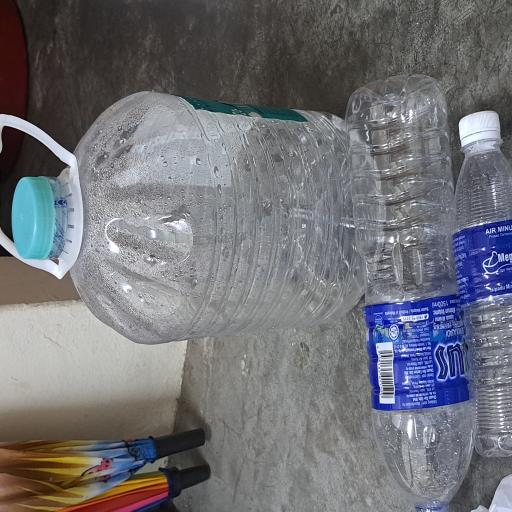plastic bottle: (124, 98, 313, 503), (0, 459, 324, 512)
plastic bottle cap: (186, 14, 254, 91)
